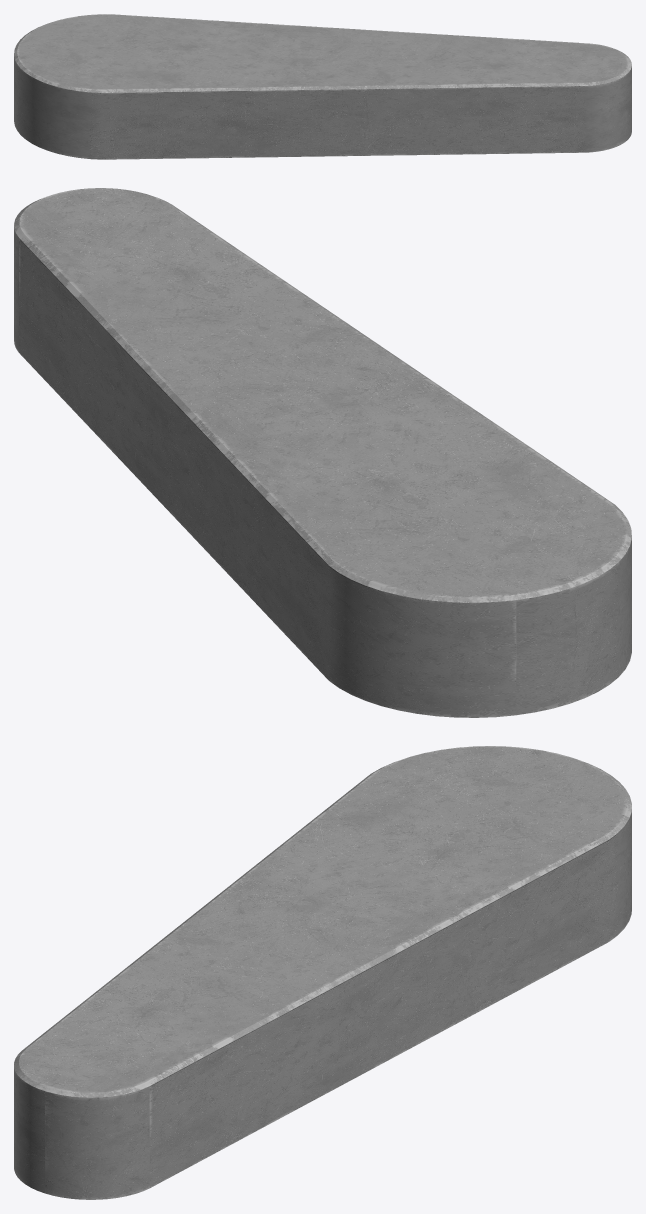
The model's file is newpinball_rebar22.fbx.
3 renders of one model, top to bottom at view 1: azimuth 30°, elevation 25°; view 2: azimuth 150°, elevation 25°; view 3: azimuth 270°, elevation 25°, orthographic. The views are drawn at different scales.
Visible parts, largest first — view 1: rebar22; view 2: rebar22; view 3: rebar22.
Boxes of the visible parts, x1,y1,x2,y2 form: rebar22: [14, 14, 631, 159]; rebar22: [14, 188, 631, 717]; rebar22: [14, 746, 631, 1199].
Size of the model in its own units: 40.82 by 5.7 by 30.38.
